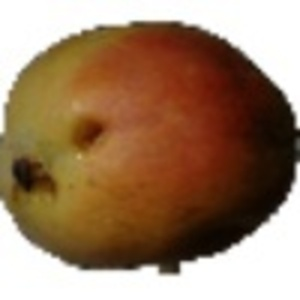mamão: (3, 16, 297, 267)
